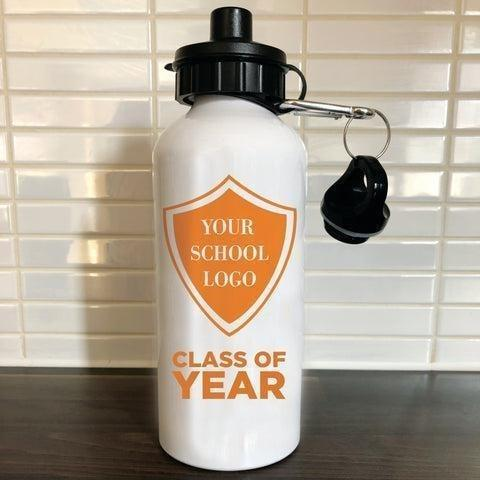gym bottle: (147, 5, 391, 476)
